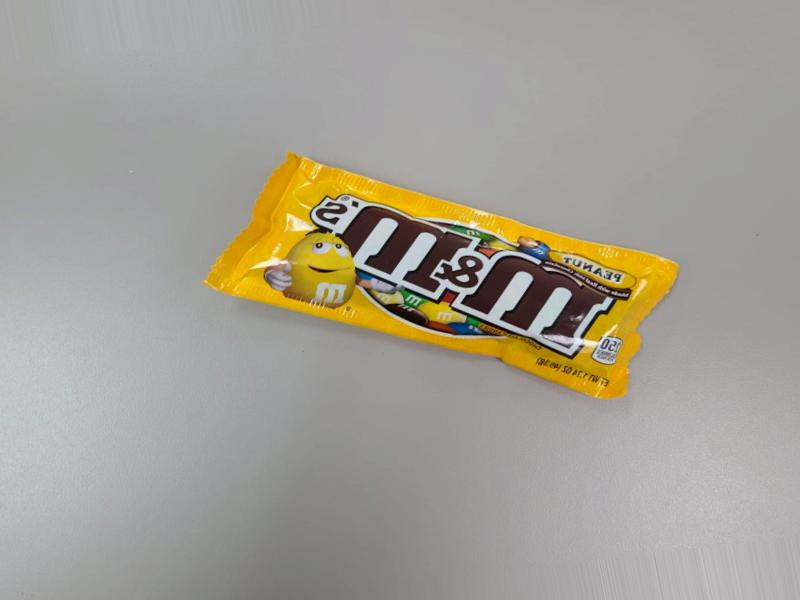m&m: (177, 152, 674, 382)
